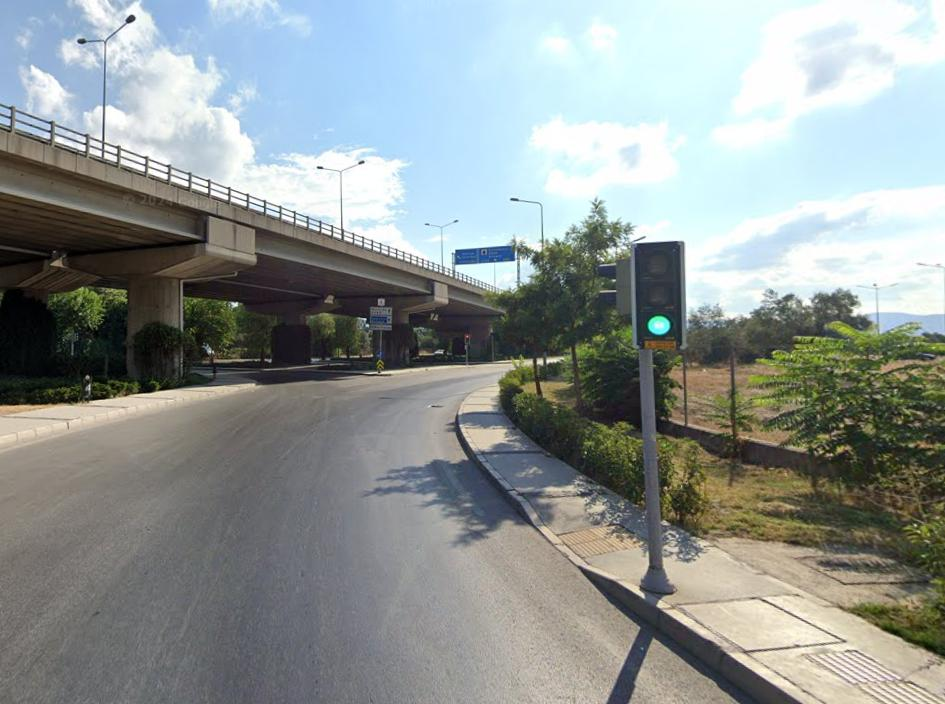greenlight: (635, 244, 679, 335)
